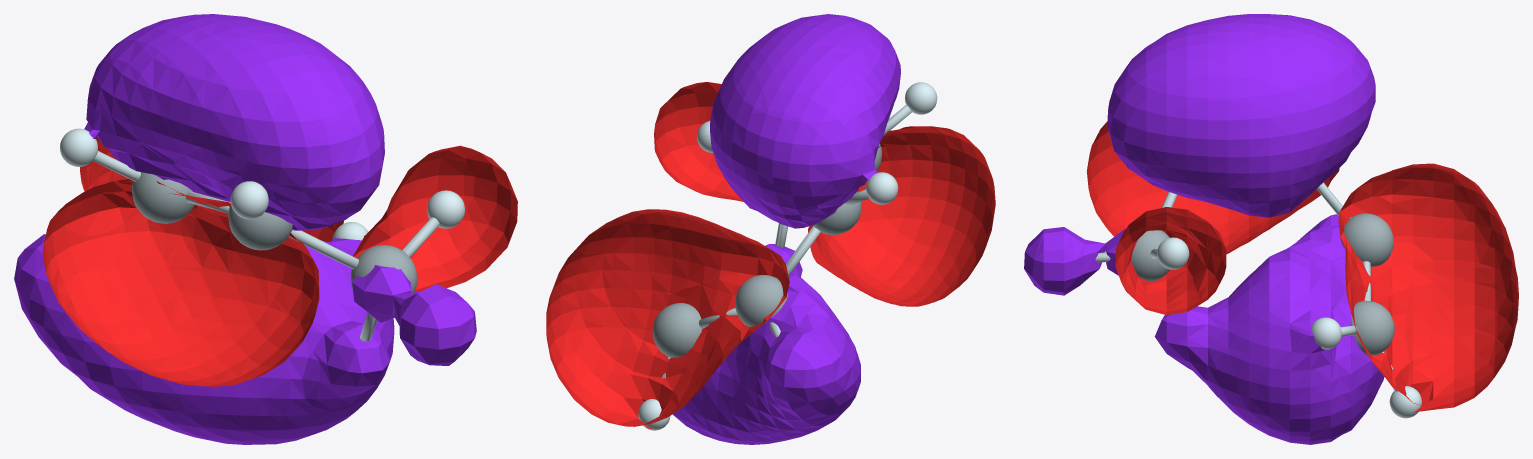
3 views of the same model, side by side, from view 1: azimuth 30°, elevation 25°; view 2: azimuth 150°, elevation 25°; view 3: azimuth 270°, elevation 25° (orthographic). The views are drawn at different scales.
Visible parts, largest first — view 1: Renderer Node; view 2: Renderer Node; view 3: Renderer Node.
Part boxes in pixels (bbox=[...]): Renderer Node: bbox=[14, 14, 517, 444]; Renderer Node: bbox=[546, 14, 995, 444]; Renderer Node: bbox=[1024, 14, 1518, 444].
Size of the model in its own units: 4.88 by 5.2 by 6.12.
